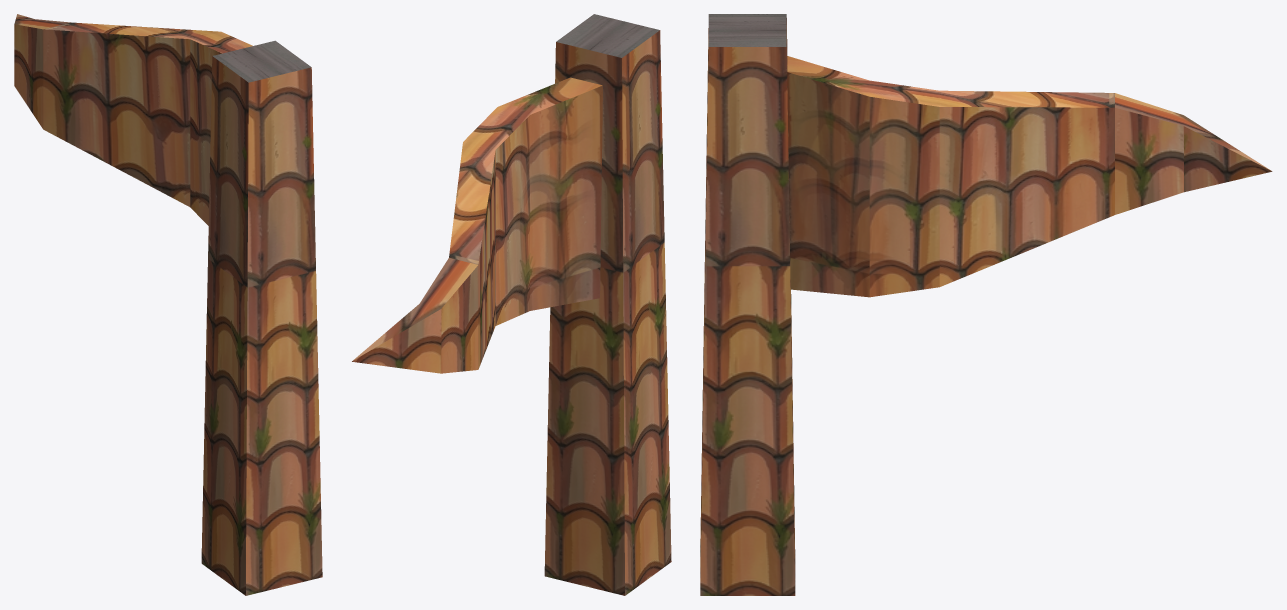
File: flag_red.gltf
The picture shows the model from 3 angles, left to right: view 1: azimuth 30°, elevation 25°; view 2: azimuth 150°, elevation 25°; view 3: azimuth 270°, elevation 25°; orthographic projection. The views are drawn at different scales.
Parts seen in each view (by area): view 1: flag_red; view 2: flag_red; view 3: flag_red.
Part boxes in pixels (x1,y1,x2,y2): flag_red: (14, 14, 322, 595); flag_red: (352, 14, 671, 595); flag_red: (700, 14, 1272, 595).
Size of the model in its own units: 0.055 by 0.2775 by 0.264.
2 materials, 2 textured.
